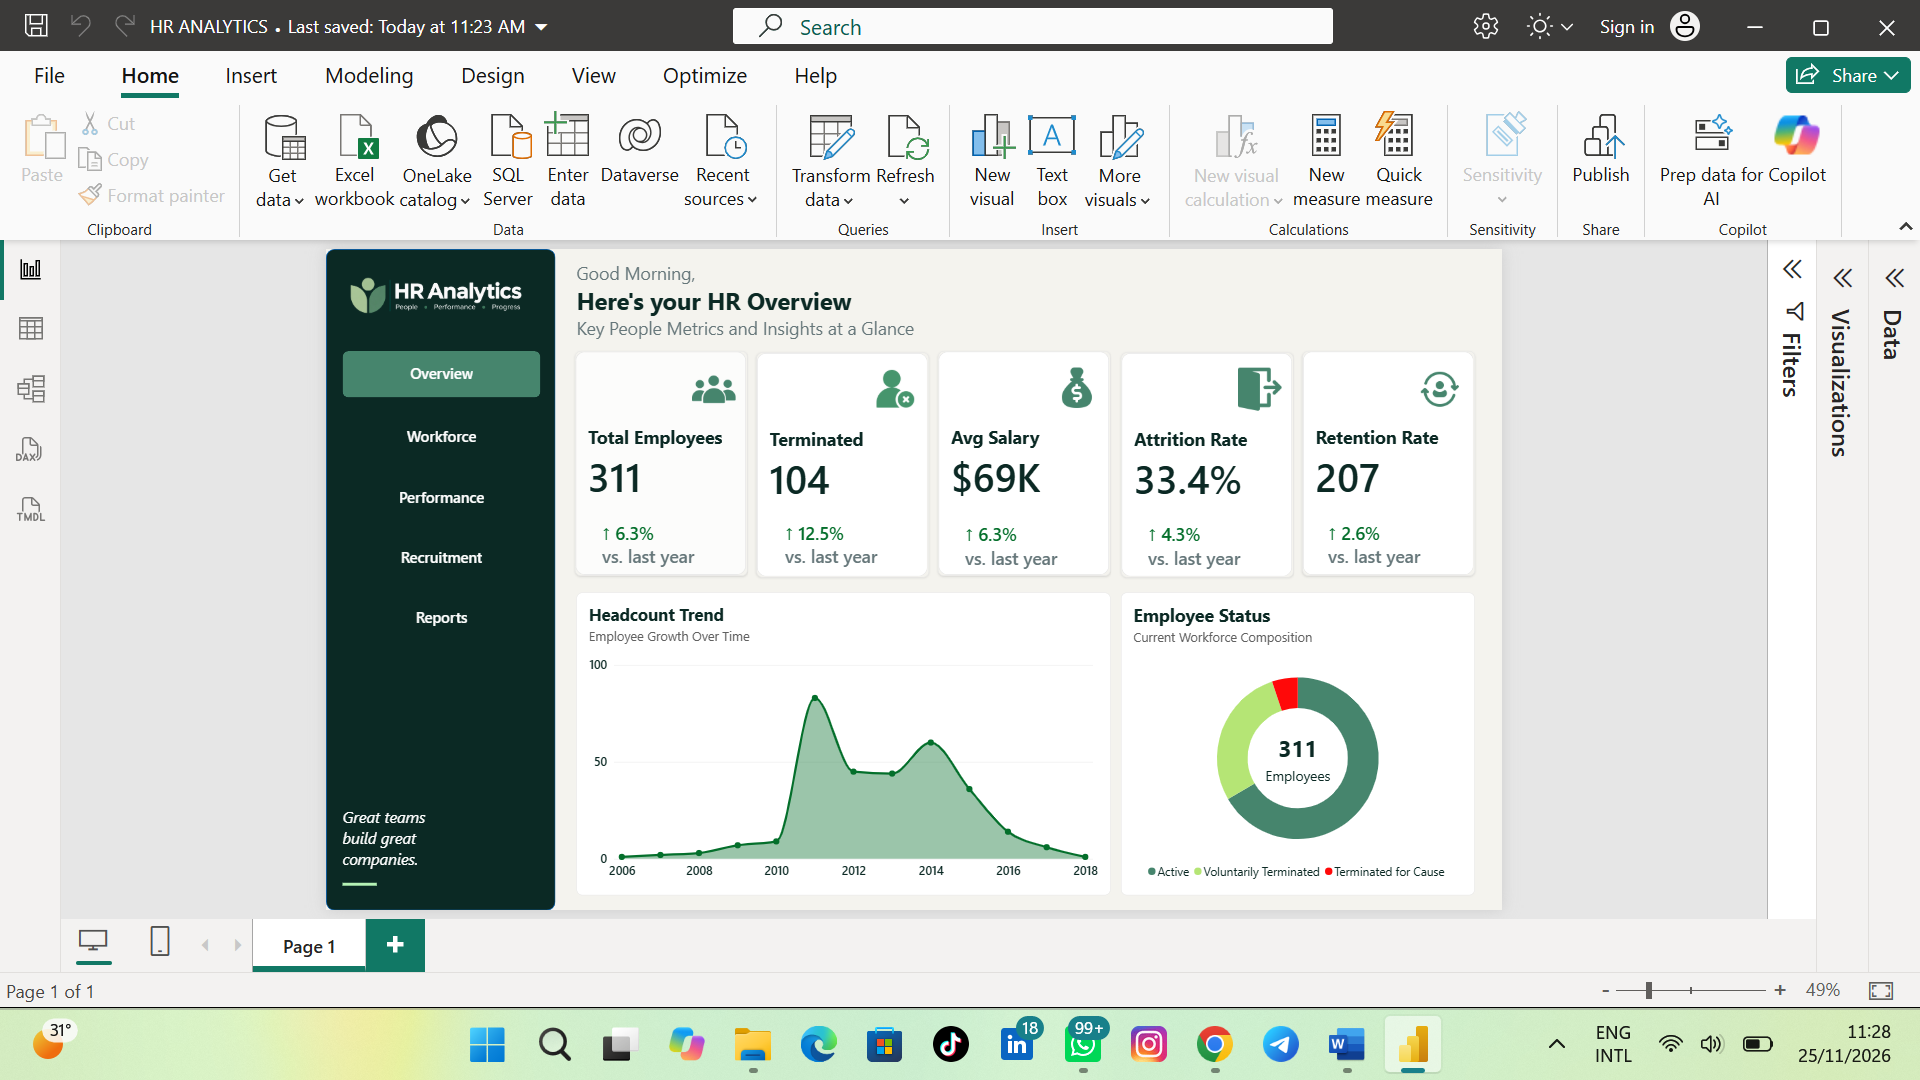

The dashboard page shown, as its layout file describes it:
{"tool":"powerbi","page":{"name":"Page 1","canvas":[1600,900],"ordinal":0},"visuals":[{"type":"shape","box":[0,0,312.2,900],"z":0},{"type":"cardVisual","fields":{"Data":["Measure.Total Employees"]},"box":[339.5,138.1,234.7,306.1],"z":1000},{"type":"textbox","box":[340.8,16.3,661.2,124.5],"z":2000},{"type":"textbox","box":[375.5,369.4,181.6,165.3],"z":3000},{"type":"cardVisual","fields":{"Data":["Measure.Terminated Employees"]},"box":[586.5,139.9,234.7,306.1],"z":4000},{"type":"textbox","box":[624.5,369.4,181.6,167.3],"z":5000},{"type":"cardVisual","fields":{"Data":["Measure.Average Salary"]},"box":[833.6,139.5,234.7,306.1],"z":6000},{"type":"textbox","box":[869.5,370.8,181.6,165.3],"z":7000},{"type":"cardVisual","fields":{"Data":["Measure.Attrition Rate"]},"box":[1080.7,140,234.7,306.1],"z":8000},{"type":"textbox","box":[1117.6,371.3,181.6,165.3],"z":9000},{"type":"cardVisual","fields":{"Data":["Measure.Active Employees"]},"box":[1327.8,138.6,234.7,306.1],"z":10000},{"type":"textbox","box":[1363.8,369.9,181.6,165.3],"z":11000},{"type":"image","box":[22.4,16.3,249,93.9],"z":12000},{"type":"actionButton","box":[22.4,138.8,269.4,63.3],"z":13000},{"type":"actionButton","box":[22.4,220.9,269.4,69.4],"z":14000},{"type":"actionButton","box":[22.4,303.1,269.4,69.4],"z":15000},{"type":"actionButton","box":[22.4,385.2,269.4,69.4],"z":16000},{"type":"actionButton","box":[22.4,467.3,269.4,69.4],"z":17000},{"type":"textbox","box":[22.4,757.1,181.6,87.8],"z":18000},{"type":"shape","box":[22.4,828.6,46.9,71.4],"z":19000},{"type":"image","box":[991.8,136.7,59,104],"z":20000},{"type":"image","box":[749,157.1,51.2,66.2],"z":21000},{"type":"image","box":[498,140.8,59.2,122.4],"z":22000},{"type":"image","box":[1240.8,138.8,59,104],"z":23000},{"type":"image","box":[1485.7,138.8,59,104],"z":24000},{"type":"lineChart","title":"Headcount Trend","fields":{"Category":["HR Data.Date of Hire.Variation.Date Hierarchy.Year","HR Data.Date of Hire.Variation.Date Hierarchy.Quarter","HR Data.Date of Hire.Variation.Date Hierarchy.Month","HR Data.Date of Hire.Variation.Date Hierarchy.Day"],"Y":["CountNonNull(HR Data.Employee Id)"]},"box":[340.8,467.3,726.5,412.2],"z":25000},{"type":"donutChart","title":"Employee Status","fields":{"Category":["HR Data.Employment Status"],"Y":["CountNonNull(HR Data.Employee Tenure)"]},"box":[1081.6,467.3,481.6,412.2],"z":26000}]}

Visuals, with their boxes on the page's 1600x900 design canvas (x1, y1, x2, y2). These are canvas units, not pixel positions in the 1920x1080 screenshot, which may show the page scaled, cropped or inside an application window:
shape: region(0, 0, 312, 900)
cardVisual - Measure.Total Employees: region(340, 138, 574, 444)
textbox: region(341, 16, 1002, 141)
textbox: region(376, 369, 557, 535)
cardVisual - Measure.Terminated Employees: region(586, 140, 821, 446)
textbox: region(624, 369, 806, 537)
cardVisual - Measure.Average Salary: region(834, 140, 1068, 446)
textbox: region(870, 371, 1051, 536)
cardVisual - Measure.Attrition Rate: region(1081, 140, 1315, 446)
textbox: region(1118, 371, 1299, 537)
cardVisual - Measure.Active Employees: region(1328, 139, 1562, 445)
textbox: region(1364, 370, 1545, 535)
image: region(22, 16, 271, 110)
actionButton: region(22, 139, 292, 202)
actionButton: region(22, 221, 292, 290)
actionButton: region(22, 303, 292, 372)
actionButton: region(22, 385, 292, 455)
actionButton: region(22, 467, 292, 537)
textbox: region(22, 757, 204, 845)
shape: region(22, 829, 69, 900)
image: region(992, 137, 1051, 241)
image: region(749, 157, 800, 223)
image: region(498, 141, 557, 263)
image: region(1241, 139, 1300, 243)
image: region(1486, 139, 1545, 243)
"Headcount Trend" lineChart: region(341, 467, 1067, 880)
"Employee Status" donutChart: region(1082, 467, 1563, 880)
